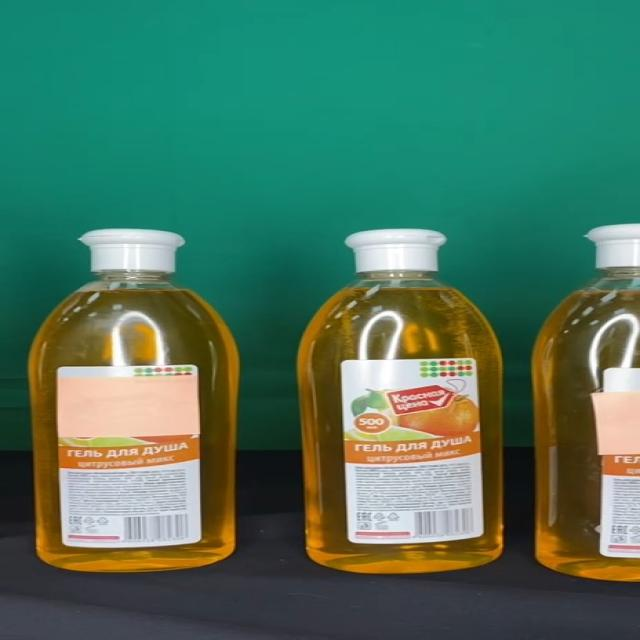Bottle: (25, 228, 242, 572), (296, 229, 502, 574)
Cap: (79, 230, 184, 272), (344, 230, 448, 272)
